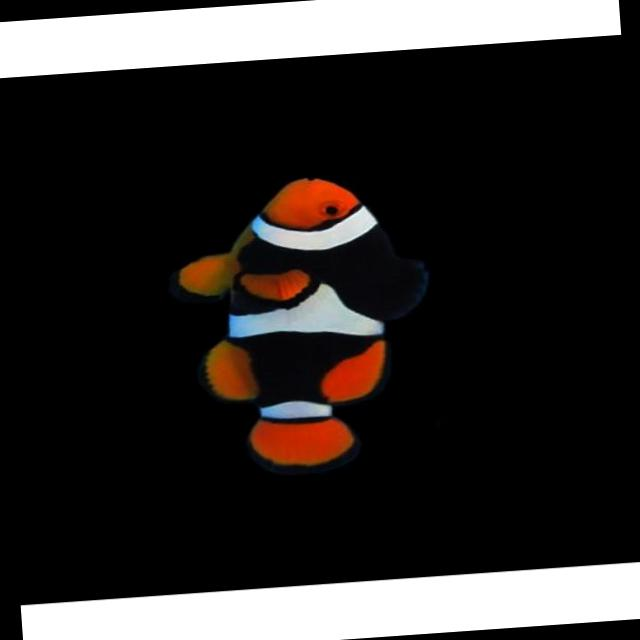ClownFish: (184, 168, 442, 478)
